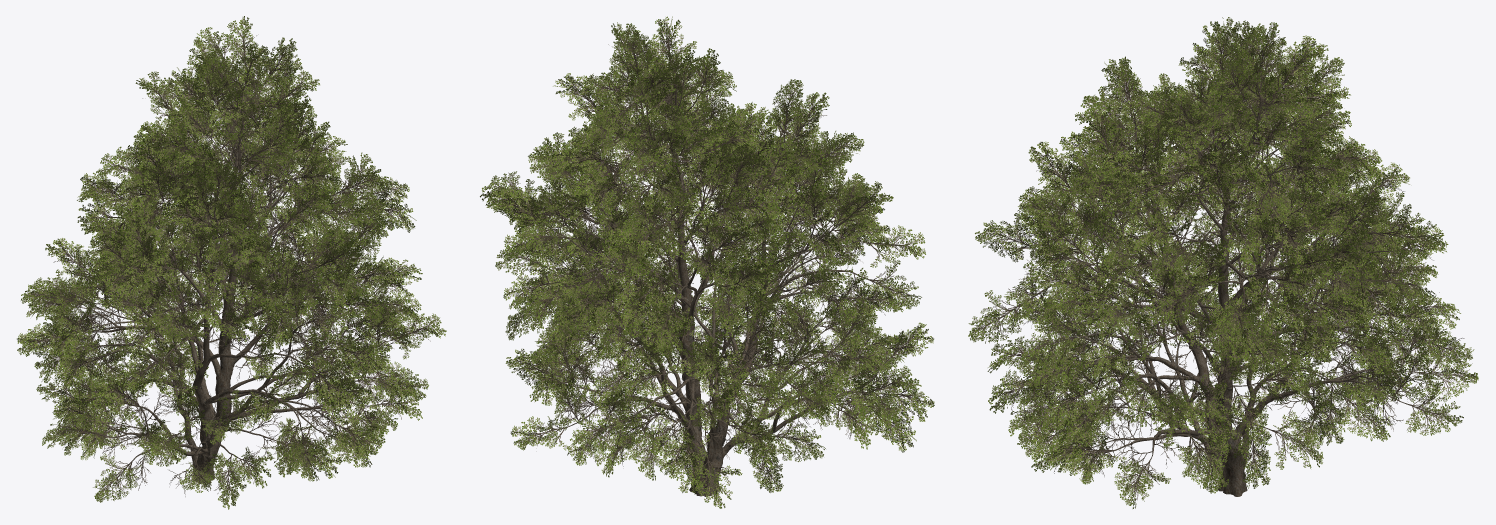
The model's file is SM_BlackAlder_Field_02_PP_LOD3.gltf.
The picture shows the model from 3 angles, left to right: view 1: azimuth 30°, elevation 25°; view 2: azimuth 150°, elevation 25°; view 3: azimuth 270°, elevation 25°; orthographic projection. The views are drawn at different scales.
Visible parts, largest first — view 1: SM_BlackAlder_Field_02_PP; view 2: SM_BlackAlder_Field_02_PP; view 3: SM_BlackAlder_Field_02_PP.
Boxes of the visible parts, <box> form: SM_BlackAlder_Field_02_PP: <box>17,16,446,509</box>; SM_BlackAlder_Field_02_PP: <box>480,16,934,508</box>; SM_BlackAlder_Field_02_PP: <box>968,17,1478,508</box>.
Bounding box in the file's own units: 16.42 × 17.29 × 16.23.
3 materials, 3 textured.
